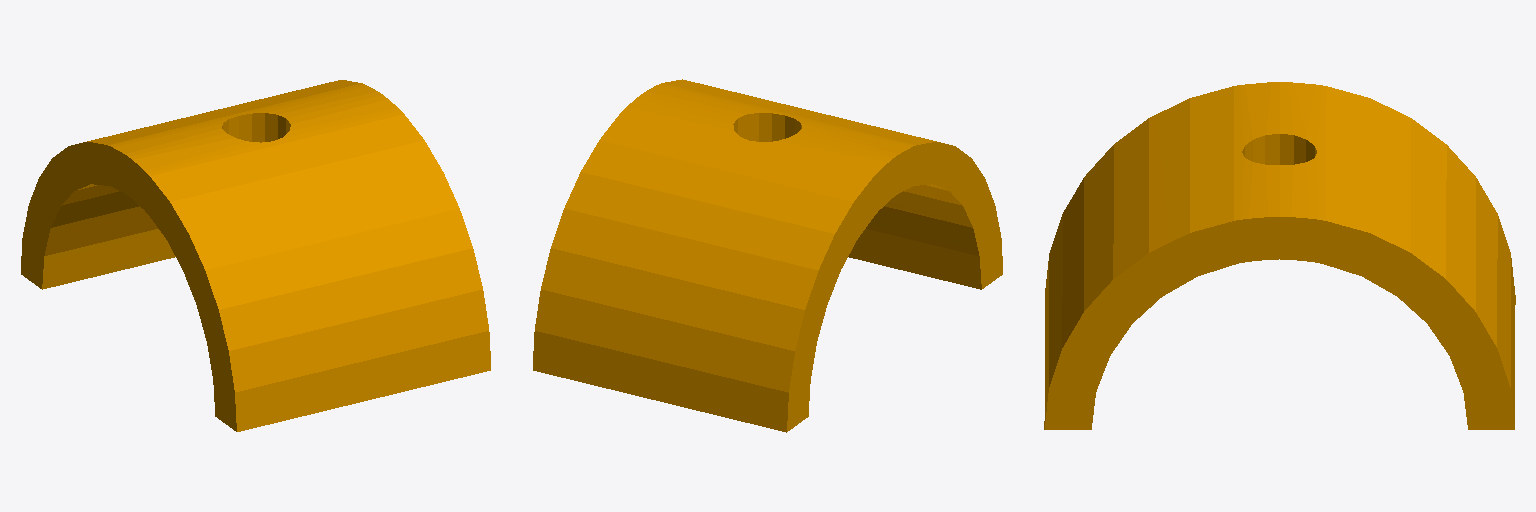
URDF robot description (00855_socket):
<?xml version="1.0"?>
<robot name="00855_socket">
	<link name="00855_socket">
		<visual>
			<geometry>
				<mesh filename="../mesh/00855/asset_socket.obj"/>
			</geometry>
		</visual>
		<collision>
			<geometry>
				<mesh filename="../mesh/00855/asset_socket.obj"/>
			</geometry>
			<sdf resolution="256"/>
		</collision>
	</link>
</robot>

--- Render facts (derived) ---
Views: 3 orthographic renders of the robot side by side, from view 1: azimuth 30°, elevation 25°; view 2: azimuth 150°, elevation 25°; view 3: azimuth 270°, elevation 25°.
Model 00855_socket with 1 links and 0 joints (none), rooted at 00855_socket, posed every joint at zero.
Links seen in each view (by area): view 1: 00855_socket; view 2: 00855_socket; view 3: 00855_socket.
Link boxes in pixels (<box>): 00855_socket: <box>21,80,490,431</box>; 00855_socket: <box>533,79,1002,432</box>; 00855_socket: <box>1044,82,1515,429</box>.
Size in the robot's own frame: 0.04 by 0.059 by 0.0295 metres.
Meshes: 1 distinct files referenced, 1 mesh visuals loaded (1 OBJ).
